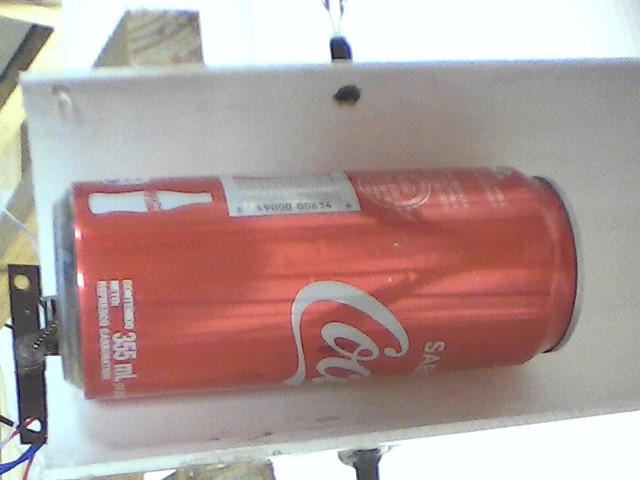lata: (48, 161, 591, 408)
